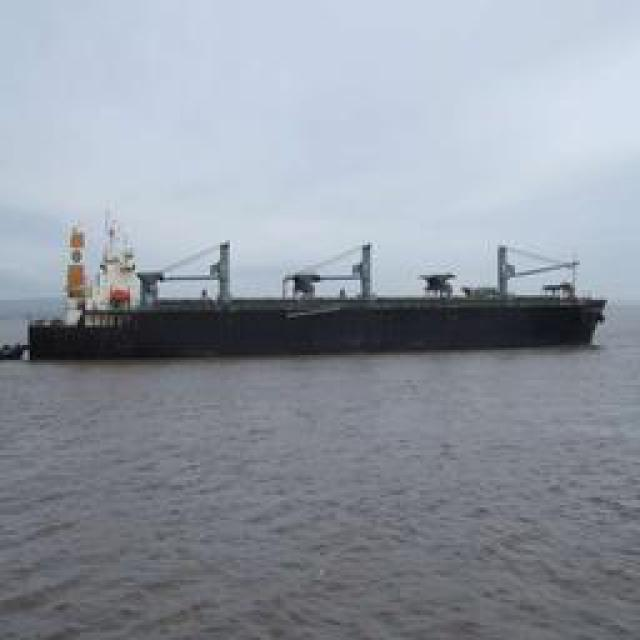Ship: (29, 241, 609, 364)
